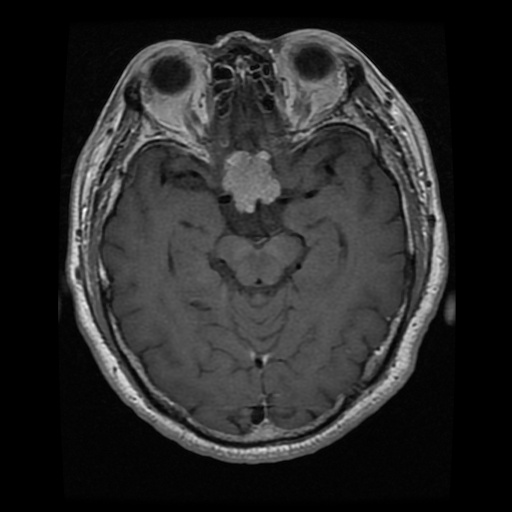pituitary: (223, 147, 282, 213)
